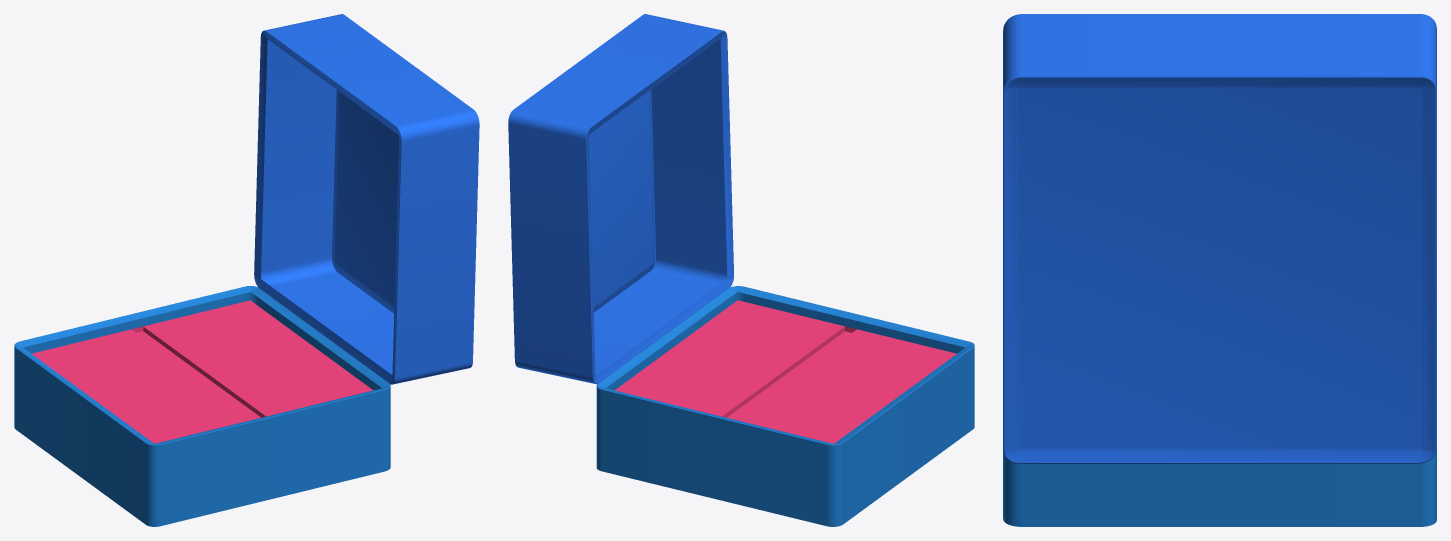
File: boxxxx.fbx
3 views of the same model, side by side, from view 1: azimuth 30°, elevation 25°; view 2: azimuth 150°, elevation 25°; view 3: azimuth 270°, elevation 25° (orthographic). The views are drawn at different scales.
Visible parts, largest first — view 1: Cube.018, Cube.010, Cube.011; view 2: Cube.018, Cube.010, Cube.011; view 3: Cube.018, Cube.010.
Part boxes in pixels (x1=…): Cube.018: x1=254, y1=14, x2=479, y2=384; Cube.010: x1=14, y1=286, x2=390, y2=526; Cube.011: x1=32, y1=300, x2=372, y2=443; Cube.018: x1=508, y1=14, x2=733, y2=384; Cube.010: x1=596, y1=286, x2=974, y2=526; Cube.011: x1=615, y1=300, x2=956, y2=443; Cube.018: x1=1003, y1=14, x2=1436, y2=463; Cube.010: x1=1003, y1=448, x2=1436, y2=526.
Bounding box in the file's own units: 173 × 169 × 128.
